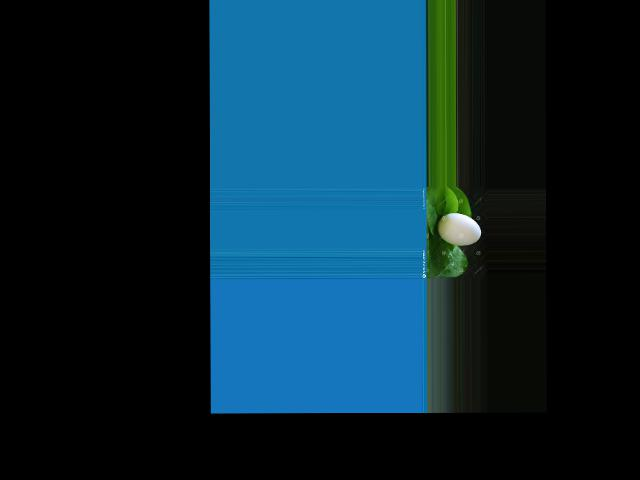egg: (437, 212, 480, 245)
